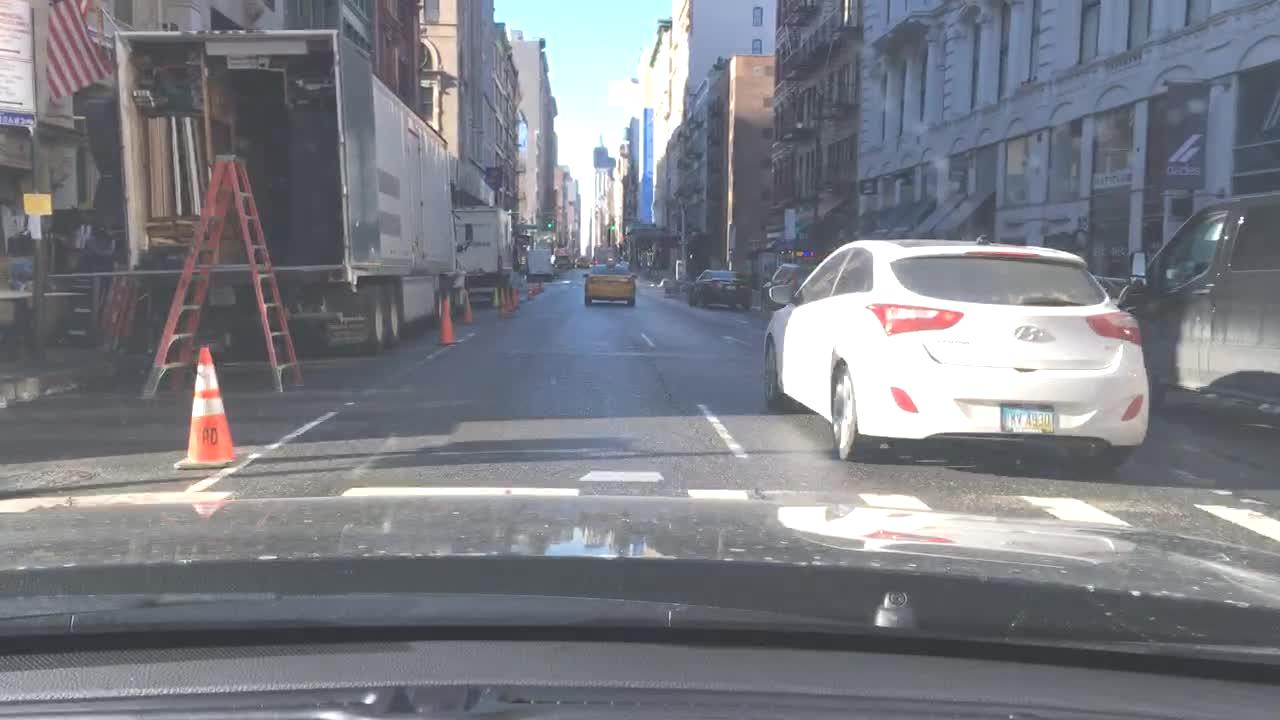Hyundai: (1010, 322, 1049, 346)
